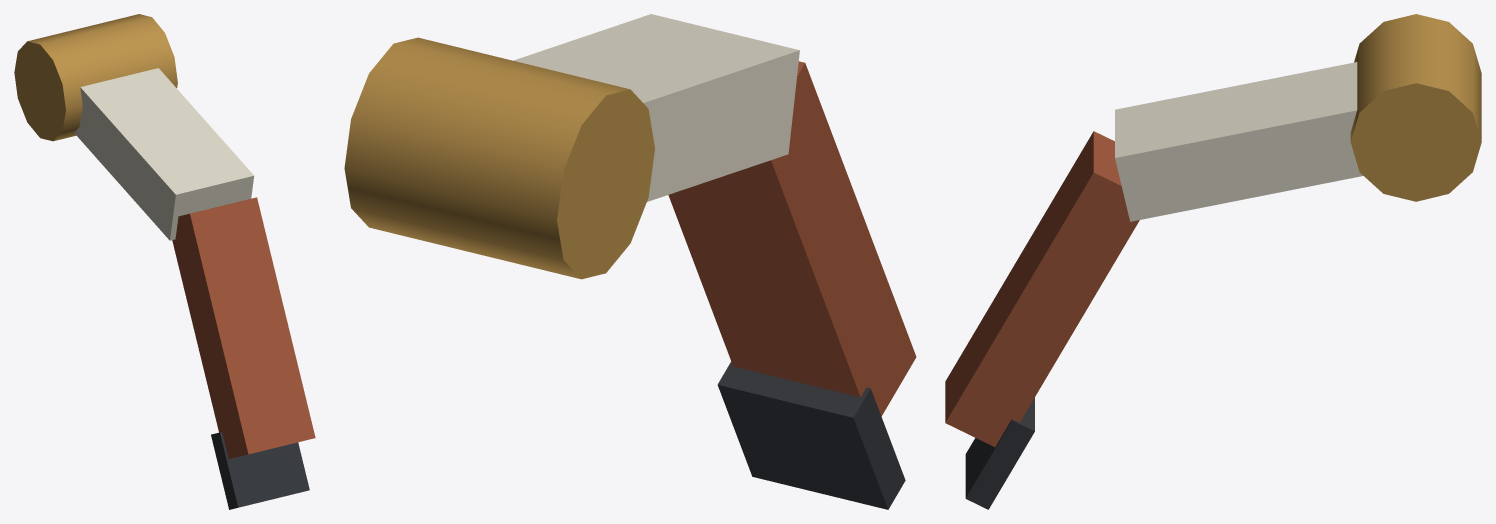
The model's file is rm2_claw_jaw_a.obj.
3 views of the same model, side by side, from view 1: azimuth 30°, elevation 25°; view 2: azimuth 150°, elevation 25°; view 3: azimuth 270°, elevation 25° (orthographic). The views are drawn at different scales.
Visible parts, largest first — view 1: rm2_claw_jaw_a; view 2: rm2_claw_jaw_a; view 3: rm2_claw_jaw_a.
Boxes of the visible parts, <box> form: rm2_claw_jaw_a: <box>14,14,315,509</box>; rm2_claw_jaw_a: <box>344,14,916,509</box>; rm2_claw_jaw_a: <box>945,14,1481,509</box>.
Size of the model in its own units: 0.05 by 0.1481 by 0.1638.
